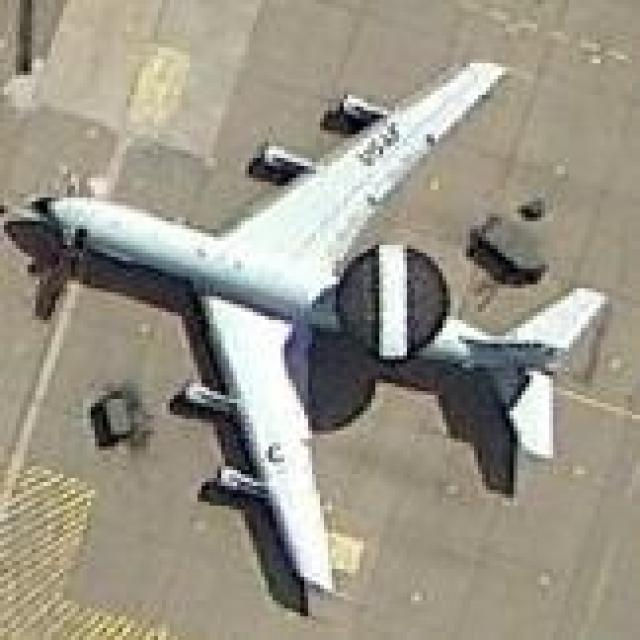E-3_TopDown: (0, 51, 612, 604)
